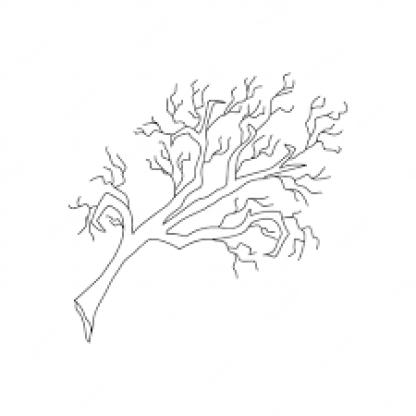branch_sharp: (79, 66, 351, 278)
trunk_straight: (80, 247, 128, 294)
